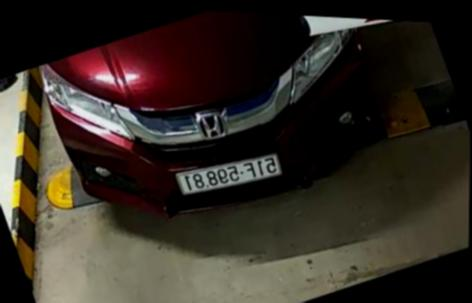License_Plate: (173, 145, 283, 214)
